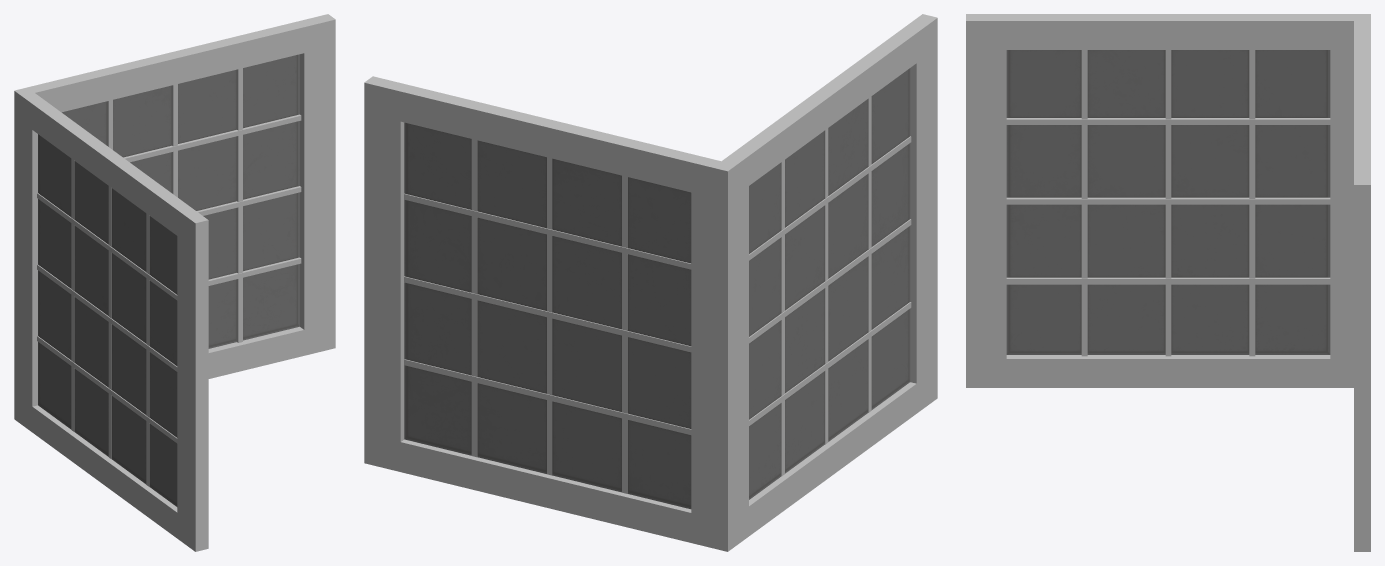
File: SM_WindowA_02_Corner.FBX
3 views of the same model, side by side, from view 1: azimuth 30°, elevation 25°; view 2: azimuth 150°, elevation 25°; view 3: azimuth 270°, elevation 25° (orthographic). The views are drawn at different scales.
Parts seen in each view (by area): view 1: SM_WindowA_02_Corner; view 2: SM_WindowA_02_Corner; view 3: SM_WindowA_02_Corner.
Boxes of the visible parts, x1,y1,x2,y2 form: SM_WindowA_02_Corner: [14, 14, 335, 551]; SM_WindowA_02_Corner: [364, 14, 937, 551]; SM_WindowA_02_Corner: [966, 14, 1370, 551].
Size of the model in its own units: 300 by 300 by 300.
